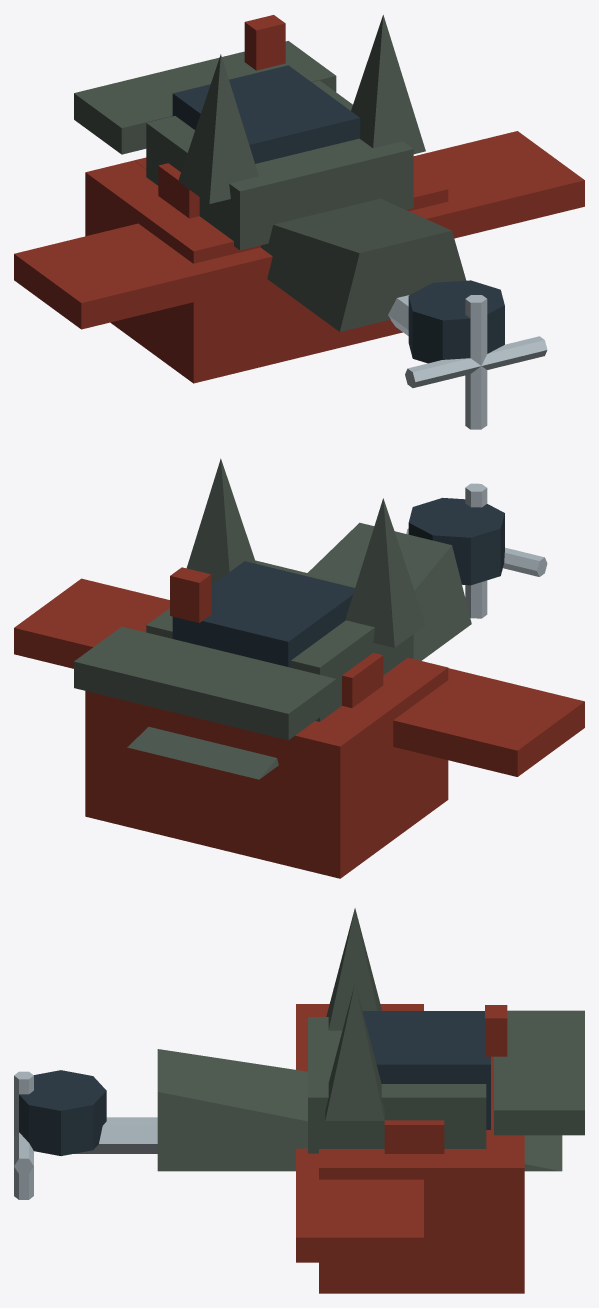
The model's file is air-transport.obj.
3 views of the same model, one above another, from view 1: azimuth 30°, elevation 25°; view 2: azimuth 150°, elevation 25°; view 3: azimuth 270°, elevation 25° (orthographic). The views are drawn at different scales.
Visible parts, largest first — view 1: air; view 2: air; view 3: air.
Part boxes in pixels (bbox=[...]): air: bbox=[14, 15, 584, 429]; air: bbox=[14, 458, 584, 878]; air: bbox=[14, 908, 584, 1293].
Bounding box in the file's own units: 2.23 × 1.29 × 2.31.
